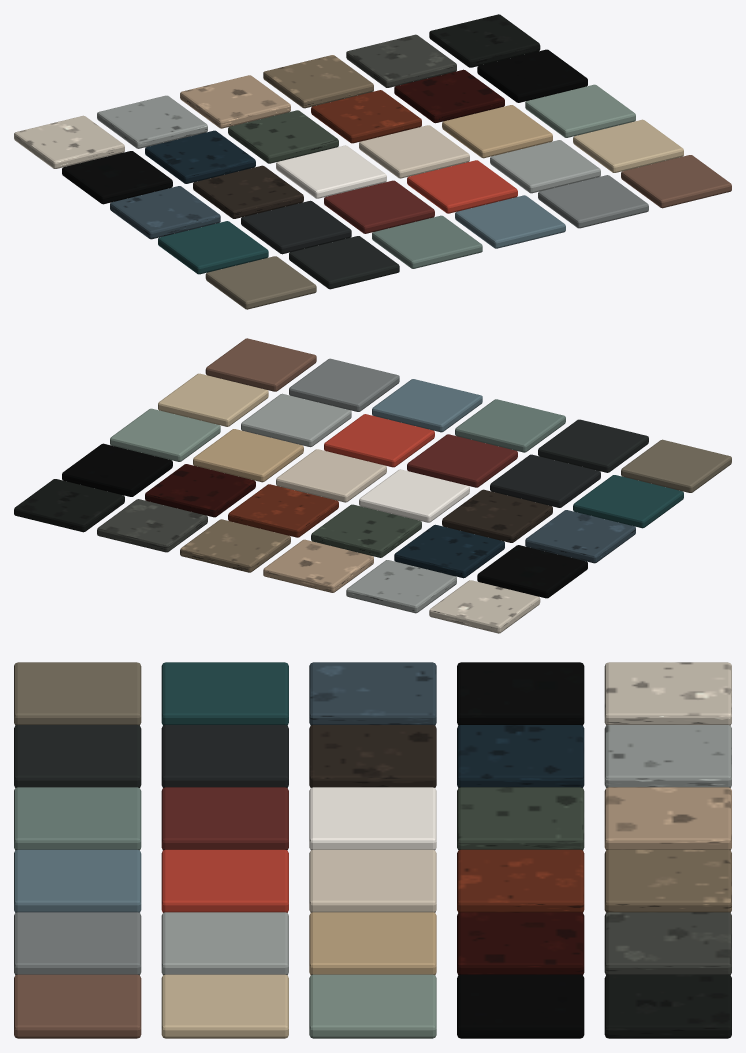
File: luminous-passage-material-library.glb
The picture shows the model from 3 angles, top to bottom: view 1: azimuth 30°, elevation 25°; view 2: azimuth 150°, elevation 25°; view 3: azimuth 270°, elevation 25°; orthographic projection. The views are drawn at different scales.
Parts seen in each view (by area): view 1: Swatch_aged-bronze, Swatch_graphite-chip, Swatch_limestone, Swatch_porcelain, Swatch_chambray-stone, Swatch_eucalyptus, Swatch_dove-terrazzo, Swatch_linen-aggregate, Swatch_pewter, Swatch_sage-fleck, Swatch_signal-red, Swatch_titanium-blue (+18 smaller); view 2: Swatch_alabaster-snow, Swatch_burnished-umber, Swatch_limestone, Swatch_porcelain, Swatch_chambray-stone, Swatch_eucalyptus, Swatch_black-steel, Swatch_clay-confetti, Swatch_copper-patina, Swatch_oxblood, Swatch_river-pebble, Swatch_smoked-oat (+18 smaller); view 3: Swatch_eucalyptus, Swatch_burnished-umber, Swatch_eclipse-flake, Swatch_graphite-chip, Swatch_soft-champagne, Swatch_smoked-oat, Swatch_titanium-blue, Swatch_clay-confetti, Swatch_limestone, Swatch_signal-red, Swatch_brushed-nickel, Swatch_chambray-stone (+18 smaller).
Boxes of the visible parts, <box> form: Swatch_aged-bronze: <box>205,256,316,309</box>; Swatch_graphite-chip: <box>429,14,540,67</box>; Swatch_limestone: <box>359,125,469,178</box>; Swatch_porcelain: <box>276,145,386,198</box>; Swatch_chambray-stone: <box>110,186,220,239</box>; Swatch_eucalyptus: <box>525,84,635,137</box>; Swatch_dove-terrazzo: <box>97,95,207,148</box>; Swatch_linen-aggregate: <box>180,75,290,128</box>; Swatch_pewter: <box>538,175,648,228</box>; Swatch_sage-fleck: <box>228,110,338,163</box>; Swatch_signal-red: <box>407,160,517,213</box>; Swatch_titanium-blue: <box>455,195,565,248</box>; Swatch_alabaster-snow: <box>429,580,540,633</box>; Swatch_burnished-umber: <box>205,338,316,391</box>; Swatch_limestone: <box>276,449,386,502</box>; Swatch_porcelain: <box>359,469,469,522</box>; Swatch_chambray-stone: <box>525,510,635,563</box>; Swatch_eucalyptus: <box>110,408,220,461</box>; Swatch_black-steel: <box>538,419,648,472</box>; Swatch_clay-confetti: <box>228,484,338,537</box>; Swatch_copper-patina: <box>455,399,565,452</box>; Swatch_oxblood: <box>407,434,517,487</box>; Swatch_river-pebble: <box>97,499,207,552</box>; Swatch_smoked-oat: <box>180,519,290,572</box>; Swatch_eucalyptus: <box>309,974,436,1038</box>; Swatch_burnished-umber: <box>14,974,141,1038</box>; Swatch_eclipse-flake: <box>457,974,584,1038</box>; Swatch_graphite-chip: <box>604,974,731,1038</box>; Swatch_soft-champagne: <box>161,974,288,1038</box>; Swatch_smoked-oat: <box>604,849,731,912</box>; Swatch_titanium-blue: <box>14,849,141,912</box>; Swatch_clay-confetti: <box>457,849,584,912</box>; Swatch_limestone: <box>309,849,436,912</box>; Swatch_signal-red: <box>161,849,288,912</box>; Swatch_brushed-nickel: <box>161,912,288,975</box>; Swatch_chambray-stone: <box>309,662,436,725</box>.
Bounding box in the file's own units: 4.22 × 0.07 × 3.5.
Materials: 30 (14 with a texture image).
